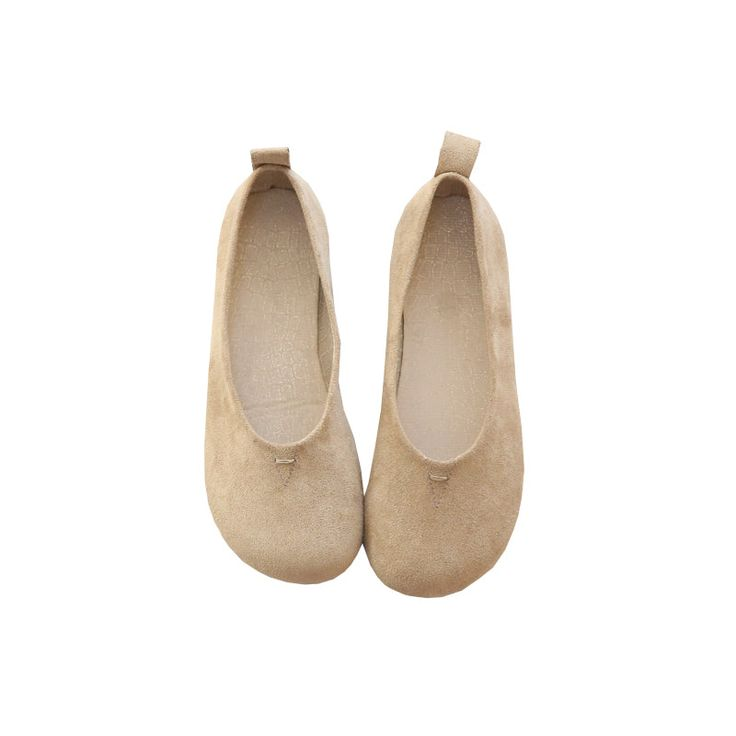gamuza: (203, 131, 527, 596)
